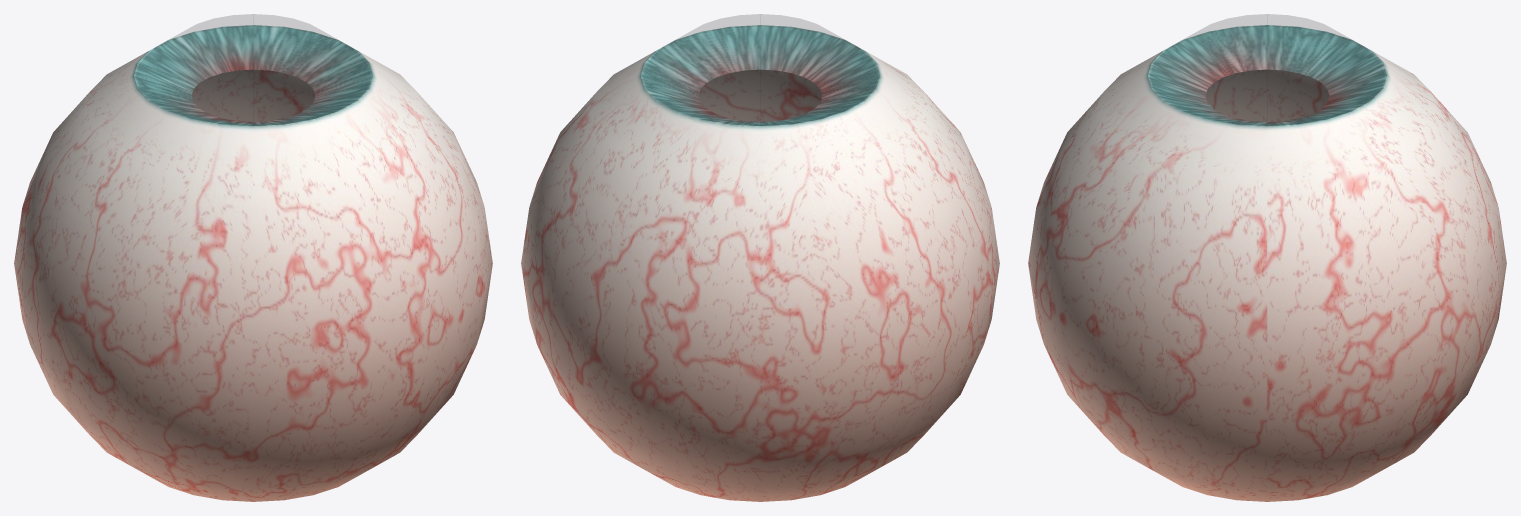
Rendered from eyeScene2V2.fbx.
3 views of the same model, side by side, from view 1: azimuth 30°, elevation 25°; view 2: azimuth 150°, elevation 25°; view 3: azimuth 270°, elevation 25° (orthographic).
Parts seen in each view (by area): view 1: EYEBALL, CORNE; view 2: EYEBALL, CORNE; view 3: EYEBALL, CORNE.
Part boxes in pixels (x1=…): EYEBALL: x1=14, y1=25, x2=492, y2=501; CORNE: x1=154, y1=14, x2=352, y2=121; EYEBALL: x1=521, y1=25, x2=999, y2=501; CORNE: x1=661, y1=14, x2=859, y2=121; EYEBALL: x1=1028, y1=25, x2=1506, y2=501; CORNE: x1=1168, y1=14, x2=1366, y2=121.
Bounding box in the file's own units: 24 × 25.01 × 24.
2 materials, 1 textured.
